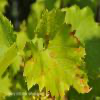grape leaf black rot: (18, 7, 93, 97)
